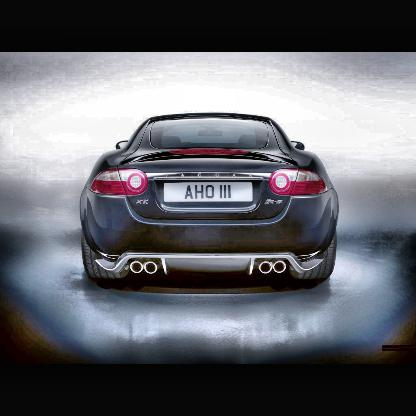Jaguar XK XKR 2012: (80, 113, 341, 290)
